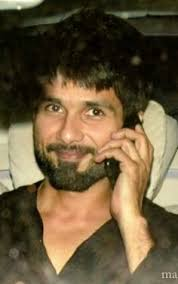Indian_Male: (41, 81, 121, 179)
